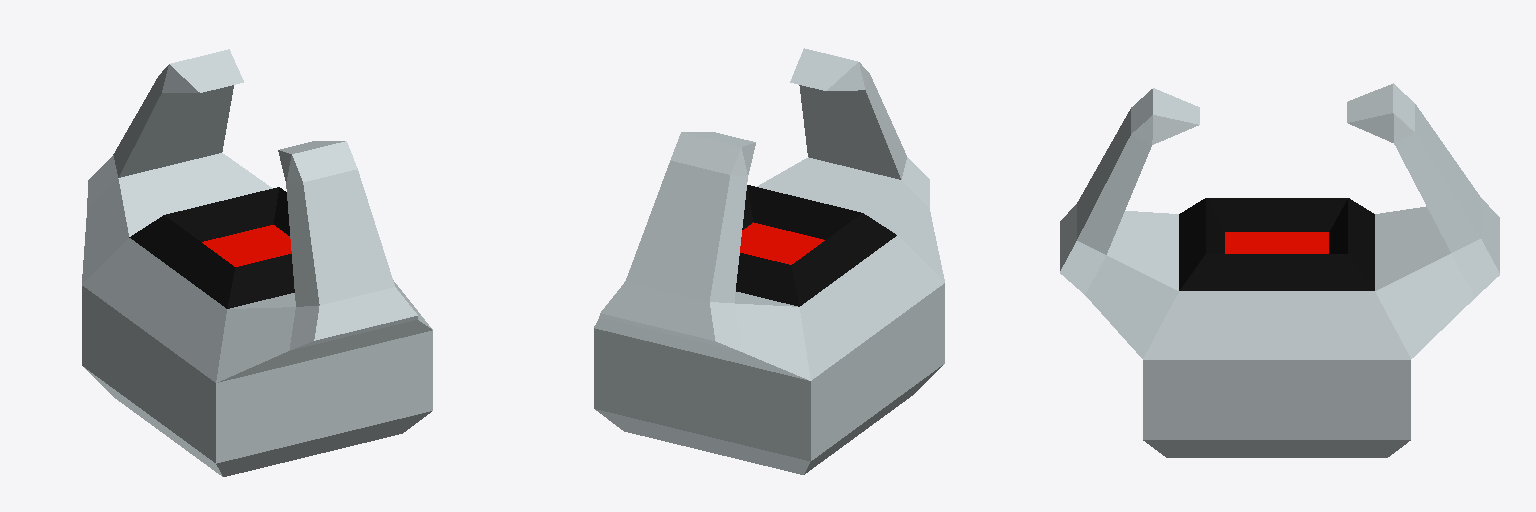
The model's file is H-mount.obj.
3 views of the same model, side by side, from view 1: azimuth 30°, elevation 25°; view 2: azimuth 150°, elevation 25°; view 3: azimuth 270°, elevation 25° (orthographic).
Parts seen in each view (by area): view 1: Default; view 2: Default; view 3: Default.
Part boxes in pixels (x1,y1,x2,y2): Default: (82, 49, 432, 476); Default: (594, 48, 944, 474); Default: (1060, 83, 1499, 457).
Size of the model in its own units: 0.573 by 0.7959 by 1.01.